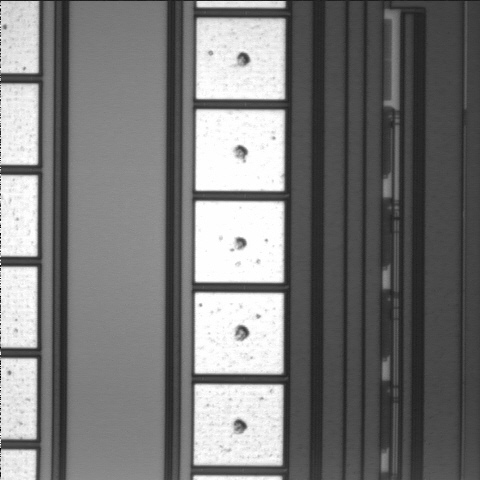pad: (195, 109, 285, 191), (195, 201, 284, 283), (194, 384, 283, 466), (196, 18, 285, 99), (195, 293, 284, 374)
